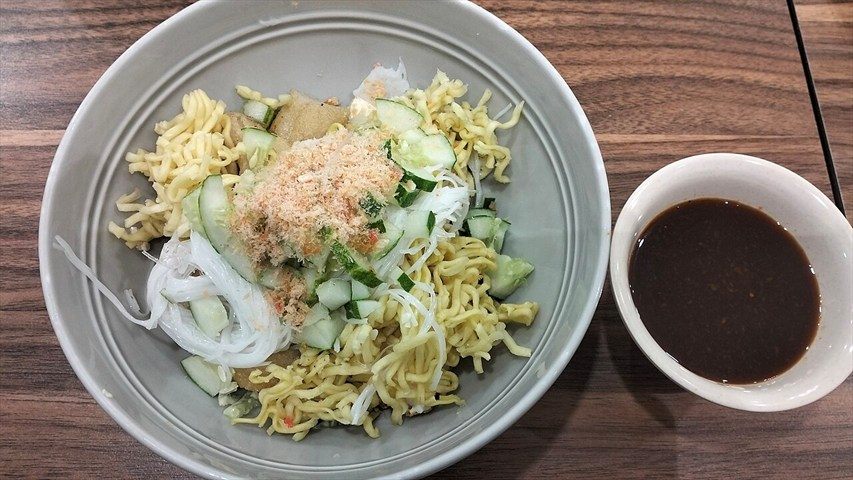Pempek: (114, 55, 744, 425)
